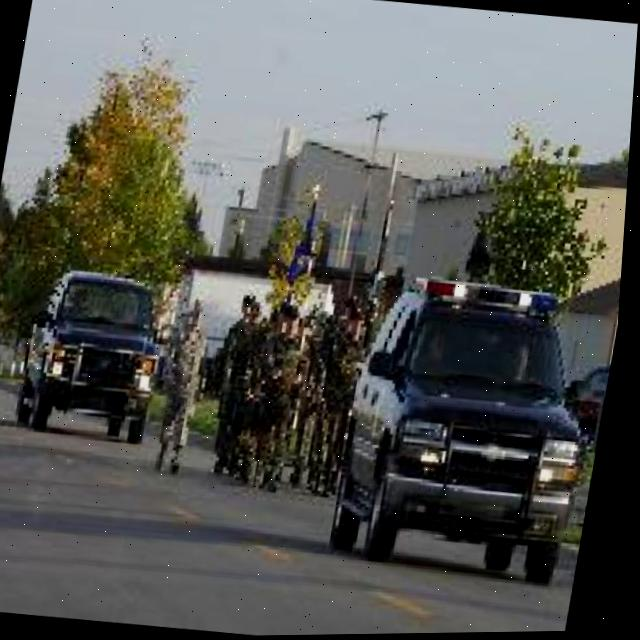emergency: (327, 267, 623, 592)
